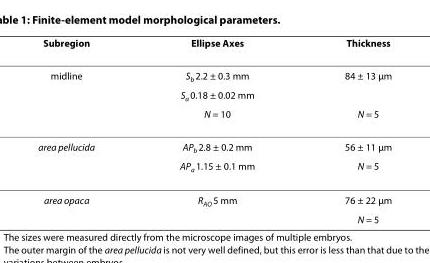table: (37, 36, 391, 224)
table column: (136, 36, 299, 224), (37, 36, 136, 224), (299, 36, 391, 224)
table column header: (37, 36, 391, 59)
table row: (37, 156, 391, 183), (37, 183, 391, 210), (37, 59, 391, 85), (37, 104, 391, 130), (37, 130, 391, 156), (37, 36, 391, 59), (37, 85, 391, 104), (37, 210, 391, 224)
table spanning cell: (37, 59, 136, 130), (37, 130, 136, 183), (37, 183, 136, 224)
